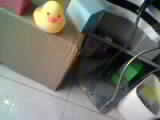duck: (31, 5, 69, 41)
